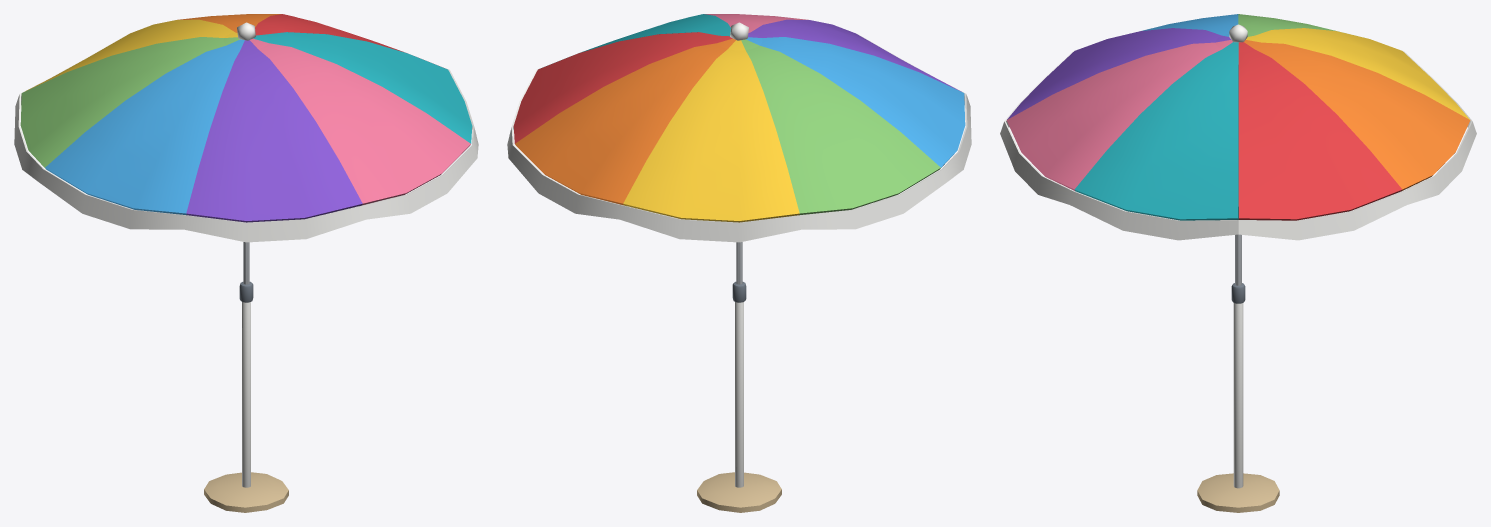
Rendered from guarda_sol_praia_arco_iris.glb.
The picture shows the model from 3 angles, left to right: view 1: azimuth 30°, elevation 25°; view 2: azimuth 150°, elevation 25°; view 3: azimuth 270°, elevation 25°; orthographic projection.
Parts seen in each view (by area): view 1: copa_gira, guarda_sol_praia_arco_iris; view 2: copa_gira, guarda_sol_praia_arco_iris; view 3: copa_gira, guarda_sol_praia_arco_iris.
Part boxes in pixels (<box>): copa_gira: <box>14,14,478,242</box>; guarda_sol_praia_arco_iris: <box>204,242,288,512</box>; copa_gira: <box>507,14,971,242</box>; guarda_sol_praia_arco_iris: <box>697,242,781,512</box>; copa_gira: <box>1000,14,1476,240</box>; guarda_sol_praia_arco_iris: <box>1197,234,1279,512</box>.
Bounding box in the file's own units: 2.23 × 2.45 × 2.23.
1 material, 1 textured.
